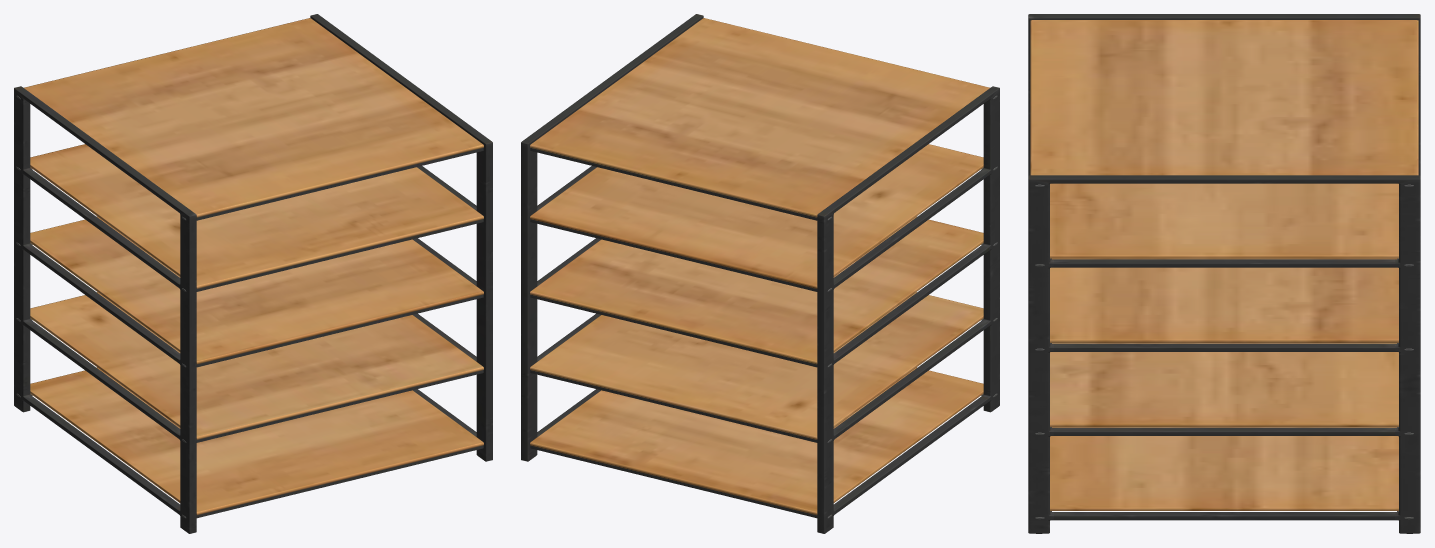
Rendered from ph-steel-frame-shelves-01.glb.
3 views of the same model, side by side, from view 1: azimuth 30°, elevation 25°; view 2: azimuth 150°, elevation 25°; view 3: azimuth 270°, elevation 25° (orthographic). The views are drawn at different scales.
Visible parts, largest first — view 1: steel_frame_shelves_01; view 2: steel_frame_shelves_01; view 3: steel_frame_shelves_01.
Boxes of the visible parts, x1,y1,x2,y2 form: steel_frame_shelves_01: (14,14,492,533); steel_frame_shelves_01: (521,14,999,533); steel_frame_shelves_01: (1028,14,1420,533).
Size of the model in its own units: 1 by 1 by 1.
Materials: 1 (1 with a texture image).
